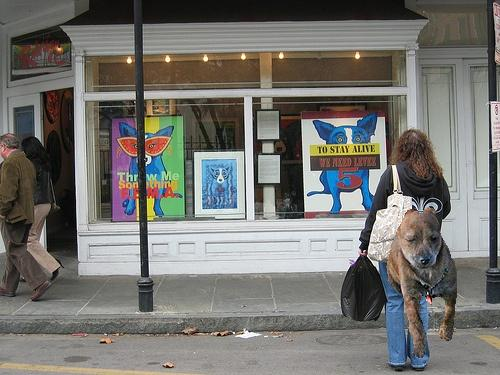tampered: (387, 208, 457, 358)
